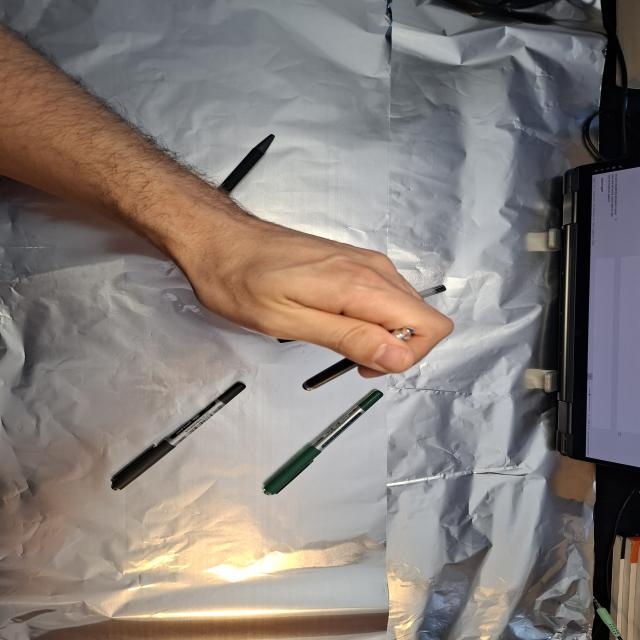glove_off: (174, 208, 457, 380)
